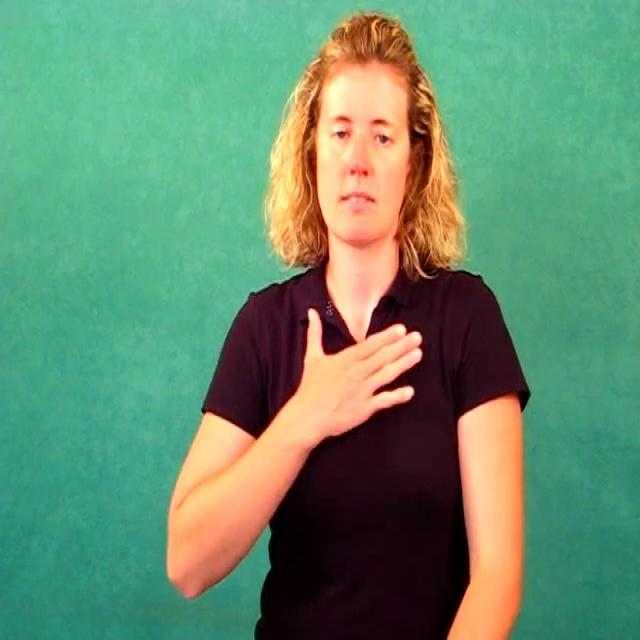please: (291, 300, 424, 435)
